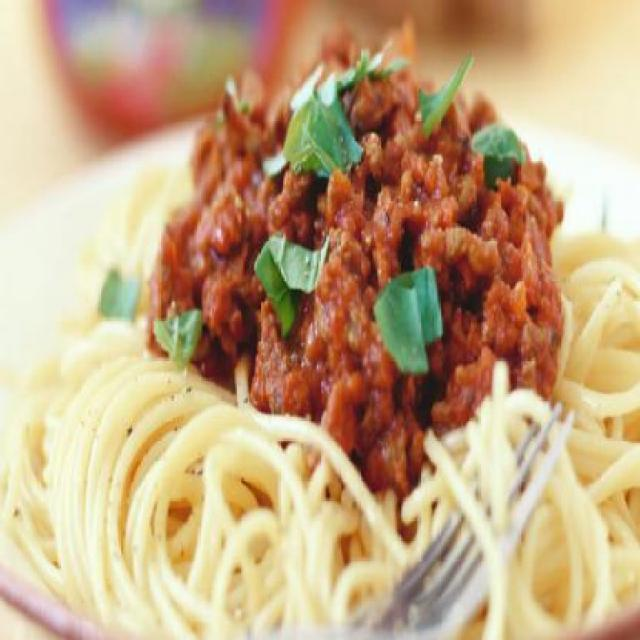Pasta al ragu: (91, 32, 614, 597)
